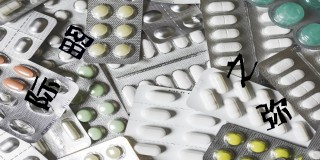之: (226, 53, 257, 88)
弥: (256, 97, 292, 131)
留: (58, 25, 94, 60)
际: (24, 76, 60, 111)
